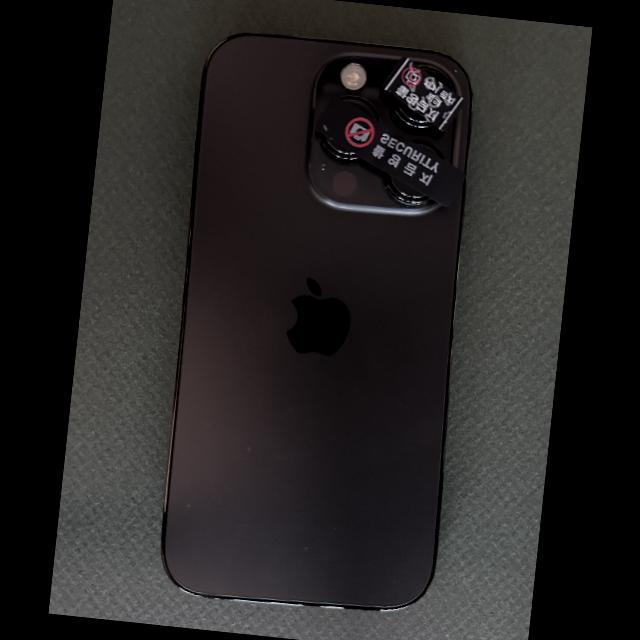lens: (384, 173, 431, 206), (392, 98, 431, 128), (319, 133, 357, 160)
phone: (159, 33, 471, 611)
sticker: (314, 95, 466, 206), (380, 56, 465, 131)
